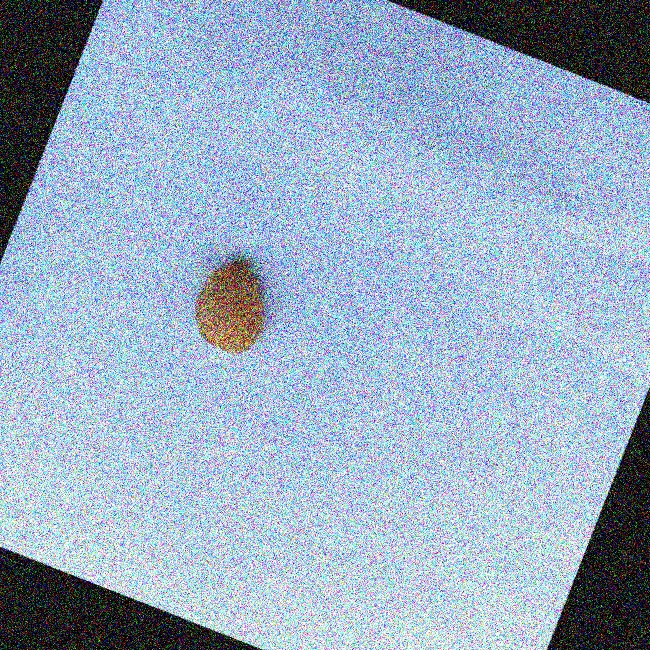grade2: (179, 246, 290, 366)
